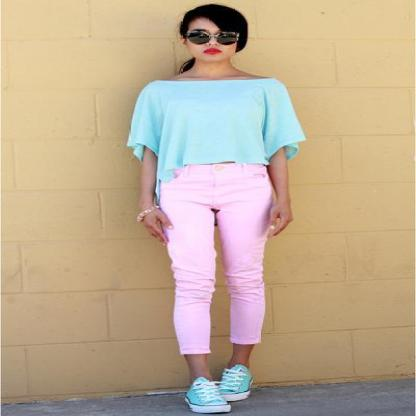pants: (156, 163, 270, 354)
shirt: (127, 78, 305, 186)
shoe: (186, 365, 254, 412)
sunglass: (214, 28, 246, 52)
